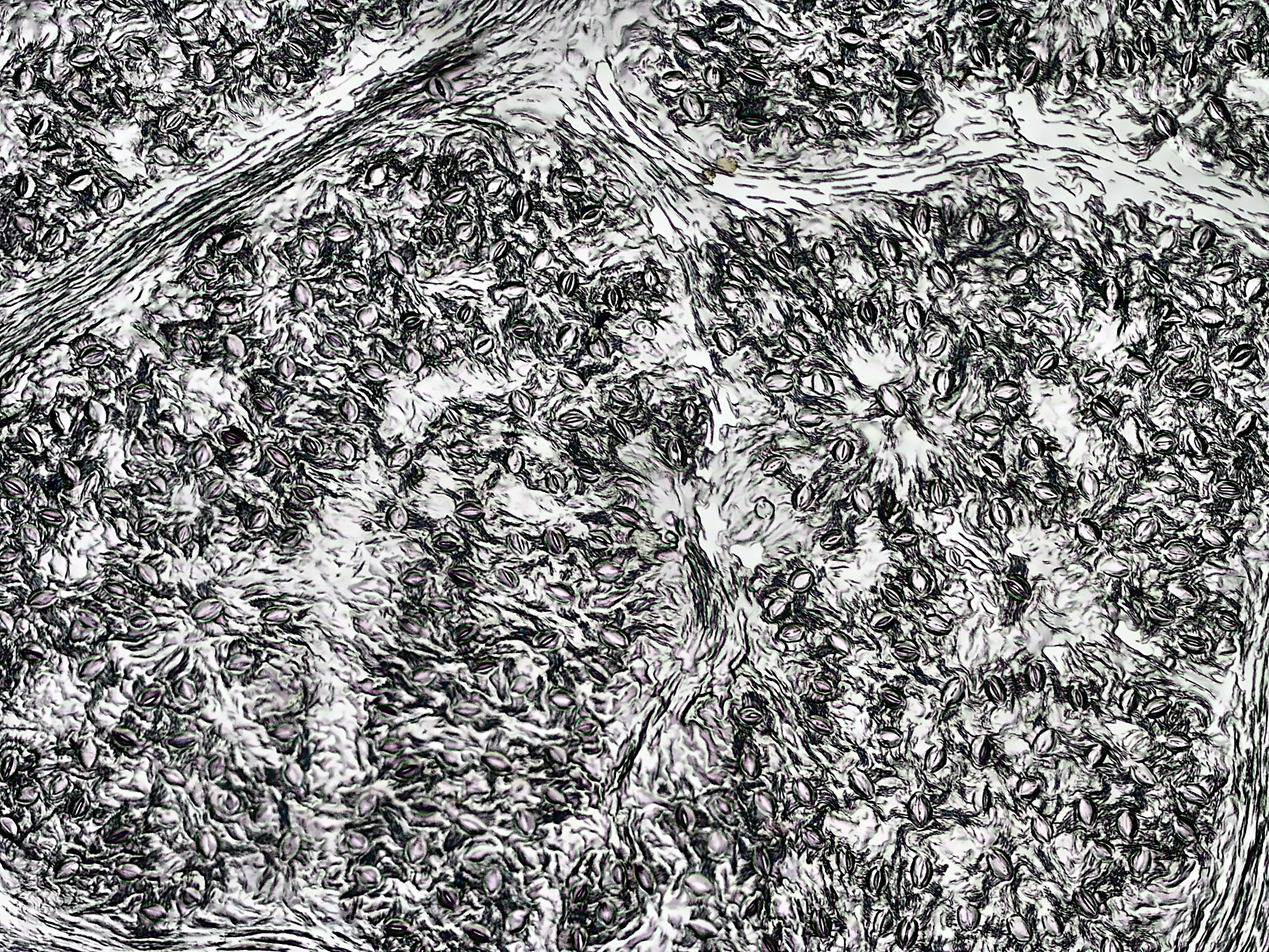stomata: (983, 845, 1014, 884), (847, 767, 882, 801), (807, 903, 836, 939), (926, 258, 958, 290), (593, 557, 628, 586), (1029, 477, 1064, 505), (1128, 759, 1160, 789), (908, 791, 932, 831), (1029, 725, 1058, 758), (384, 245, 411, 280), (276, 830, 305, 862), (557, 364, 589, 393), (540, 527, 569, 559), (833, 842, 861, 875), (1073, 888, 1101, 920), (877, 384, 904, 417), (1115, 807, 1142, 840), (1170, 814, 1200, 843), (1002, 572, 1032, 600), (907, 568, 935, 598), (460, 840, 499, 861), (598, 624, 632, 648), (896, 916, 920, 950), (957, 901, 981, 935), (982, 675, 1008, 706), (920, 743, 946, 774), (196, 829, 221, 861), (173, 0, 209, 22), (791, 479, 815, 512), (1130, 845, 1154, 878), (230, 42, 257, 71), (1005, 915, 1034, 942), (908, 200, 931, 234), (801, 305, 827, 335), (765, 595, 795, 621), (940, 675, 966, 705), (291, 278, 316, 309), (1084, 738, 1109, 769), (877, 235, 901, 267), (1178, 781, 1210, 805), (963, 211, 986, 244), (216, 229, 243, 257), (74, 344, 110, 365), (1132, 516, 1159, 544), (798, 822, 827, 848), (1098, 554, 1132, 576), (1210, 261, 1241, 285), (739, 749, 763, 780), (1067, 681, 1091, 712), (389, 761, 428, 780), (68, 44, 100, 67), (683, 91, 706, 123), (688, 917, 720, 940), (969, 735, 992, 767), (910, 857, 933, 889), (352, 792, 380, 818), (1091, 396, 1119, 422), (753, 791, 781, 817), (266, 719, 302, 739), (448, 565, 478, 589), (483, 749, 513, 773), (1145, 602, 1175, 626), (970, 415, 1004, 436), (125, 380, 156, 403), (500, 908, 531, 931), (739, 112, 770, 135), (851, 486, 874, 517), (988, 498, 1011, 529), (196, 47, 215, 84), (27, 587, 64, 606), (403, 836, 429, 863), (791, 777, 817, 804), (1053, 67, 1078, 95), (755, 845, 775, 880), (1167, 539, 1195, 564), (191, 597, 220, 621), (531, 628, 560, 652), (831, 98, 855, 127), (876, 688, 909, 709), (1080, 470, 1102, 501), (1154, 473, 1185, 495), (586, 333, 612, 359), (883, 585, 909, 611), (160, 106, 187, 131), (245, 505, 270, 532), (979, 452, 1006, 477), (1151, 428, 1176, 455), (41, 224, 65, 252), (390, 444, 414, 472), (780, 331, 808, 355), (1042, 908, 1063, 940), (544, 468, 567, 497), (896, 70, 925, 93), (1006, 261, 1035, 284), (543, 582, 578, 601), (454, 501, 487, 521), (398, 569, 431, 589), (970, 40, 992, 70), (874, 728, 904, 750), (1025, 662, 1047, 692), (1163, 729, 1193, 751), (793, 405, 824, 426), (66, 84, 92, 109), (282, 36, 307, 62), (448, 437, 474, 462), (478, 866, 503, 892), (808, 62, 833, 88), (771, 248, 796, 274), (788, 568, 813, 594), (712, 327, 736, 354), (1122, 205, 1146, 232), (283, 759, 306, 787), (640, 265, 663, 293), (511, 388, 534, 416), (674, 30, 706, 50), (935, 365, 955, 397), (150, 144, 179, 166), (338, 396, 360, 425), (837, 26, 866, 48), (1218, 478, 1247, 500), (312, 10, 342, 31), (359, 359, 389, 380), (558, 409, 588, 430), (741, 63, 771, 84), (1197, 307, 1227, 328), (1170, 583, 1200, 604), (1178, 633, 1208, 654), (460, 922, 493, 941), (1019, 53, 1038, 86), (364, 161, 389, 186), (352, 304, 377, 329), (19, 422, 44, 447), (58, 456, 83, 481), (609, 416, 634, 441), (828, 629, 853, 654), (17, 781, 41, 807), (584, 659, 610, 683), (1151, 113, 1177, 137), (1105, 277, 1125, 308), (1099, 932, 1130, 952), (78, 655, 106, 677), (401, 345, 423, 373), (556, 323, 578, 351), (891, 640, 919, 662), (87, 397, 108, 426), (604, 179, 633, 200), (407, 664, 436, 685), (201, 478, 225, 503), (266, 444, 290, 469), (0, 750, 20, 780), (55, 858, 79, 883), (79, 737, 99, 767), (228, 647, 253, 671), (486, 238, 510, 263), (1204, 98, 1228, 123), (990, 380, 1020, 400), (1143, 695, 1173, 715), (871, 907, 891, 937), (516, 841, 539, 867), (994, 196, 1017, 222), (1126, 354, 1152, 377), (922, 331, 945, 357), (264, 604, 291, 626), (385, 504, 407, 531), (457, 812, 484, 834), (741, 219, 763, 246), (1084, 44, 1103, 75), (803, 714, 834, 733), (13, 63, 34, 91), (37, 506, 65, 527), (764, 370, 792, 391), (1022, 431, 1043, 459), (225, 329, 245, 358), (608, 384, 637, 404), (927, 25, 947, 54), (1031, 815, 1051, 844), (166, 733, 200, 750), (667, 435, 685, 467), (124, 36, 149, 59), (112, 725, 137, 748), (511, 672, 536, 695), (1227, 44, 1252, 67), (1203, 524, 1228, 547), (1019, 774, 1042, 799), (556, 270, 578, 296), (499, 566, 521, 592), (813, 369, 835, 395), (615, 503, 641, 525), (340, 270, 367, 291), (192, 441, 213, 468), (346, 826, 367, 853), (778, 623, 805, 644), (869, 608, 896, 629), (1076, 517, 1097, 544), (135, 686, 163, 706), (719, 284, 747, 304), (635, 866, 655, 894), (761, 455, 785, 478), (832, 439, 855, 463), (208, 753, 227, 782), (903, 300, 922, 329), (1167, 344, 1196, 363), (1236, 407, 1255, 436), (1215, 612, 1244, 631), (182, 330, 204, 355), (580, 204, 605, 226), (687, 872, 712, 894), (1232, 343, 1254, 368), (74, 608, 100, 629), (746, 33, 772, 54), (1114, 44, 1131, 76), (430, 75, 450, 102), (558, 173, 585, 193), (410, 796, 437, 816), (516, 810, 536, 837), (384, 919, 414, 937), (969, 3, 999, 21), (999, 307, 1026, 327), (1120, 687, 1140, 714), (103, 184, 122, 212), (471, 658, 499, 677), (1035, 349, 1057, 373), (1115, 455, 1137, 479), (134, 563, 159, 584), (530, 247, 551, 272), (740, 894, 761, 919), (155, 809, 181, 829), (1145, 264, 1165, 290), (892, 526, 918, 546), (924, 614, 950, 634), (567, 925, 586, 952), (324, 223, 354, 240), (505, 447, 522, 477), (103, 487, 126, 509), (801, 115, 823, 138), (1191, 225, 1214, 247), (3, 478, 27, 499), (115, 862, 143, 880), (161, 766, 185, 787), (452, 622, 476, 643), (1180, 50, 1198, 78), (1187, 377, 1211, 398), (397, 614, 422, 634), (1017, 225, 1037, 250), (660, 69, 691, 85), (111, 85, 130, 111), (550, 688, 576, 707), (867, 866, 886, 892), (681, 398, 699, 425), (354, 866, 381, 884), (1138, 35, 1156, 62), (51, 409, 72, 432), (253, 395, 276, 416), (545, 743, 568, 764), (714, 13, 737, 34), (713, 796, 736, 817), (0, 548, 20, 572), (69, 794, 89, 818), (249, 798, 273, 818), (1230, 152, 1260, 168), (730, 261, 750, 285), (413, 161, 430, 189), (931, 478, 948, 506), (509, 529, 528, 554), (428, 596, 453, 615), (1010, 16, 1029, 41), (544, 786, 569, 805), (277, 356, 295, 382), (155, 432, 173, 458), (573, 715, 599, 733), (738, 706, 764, 724), (1077, 799, 1095, 825), (0, 606, 16, 635), (14, 212, 35, 234), (635, 318, 657, 339), (30, 115, 50, 138), (182, 886, 205, 906), (685, 9, 708, 29), (1171, 0, 1194, 20), (301, 233, 318, 260), (587, 532, 614, 549), (676, 804, 693, 831), (134, 515, 158, 534), (576, 463, 600, 482), (599, 901, 617, 926), (812, 676, 837, 694), (819, 531, 845, 548), (322, 329, 344, 349), (16, 174, 35, 197), (513, 319, 536, 338), (401, 311, 425, 329), (458, 301, 476, 325), (373, 701, 400, 717), (815, 240, 833, 264), (1090, 840, 1114, 858), (605, 285, 622, 310), (618, 475, 643, 492), (146, 474, 166, 495), (303, 434, 323, 455), (197, 257, 216, 279), (473, 334, 492, 356), (103, 583, 129, 599), (23, 642, 46, 660), (0, 811, 18, 834), (431, 333, 449, 356), (755, 496, 773, 519), (223, 823, 247, 840), (453, 699, 480, 714), (443, 187, 468, 203), (434, 532, 459, 548), (436, 887, 456, 907), (69, 173, 91, 191), (1246, 276, 1264, 298), (514, 190, 528, 218), (966, 325, 983, 348), (339, 438, 354, 464), (706, 64, 721, 90), (1190, 428, 1205, 454), (293, 485, 317, 501), (144, 902, 168, 918), (1083, 367, 1107, 383), (487, 175, 507, 194), (20, 523, 39, 543), (178, 680, 197, 700), (174, 524, 192, 545), (278, 527, 300, 544), (126, 612, 149, 628), (106, 827, 132, 841), (860, 299, 874, 325), (757, 933, 776, 952), (272, 63, 287, 87), (444, 405, 461, 426), (658, 0, 679, 17), (611, 864, 626, 887), (424, 227, 442, 246), (946, 546, 964, 565), (219, 430, 241, 445), (454, 221, 473, 238), (572, 881, 587, 902), (217, 298, 239, 312), (103, 0, 128, 12), (981, 784, 991, 813), (1205, 0, 1222, 17), (863, 0, 883, 13), (1124, 0, 1146, 9)
